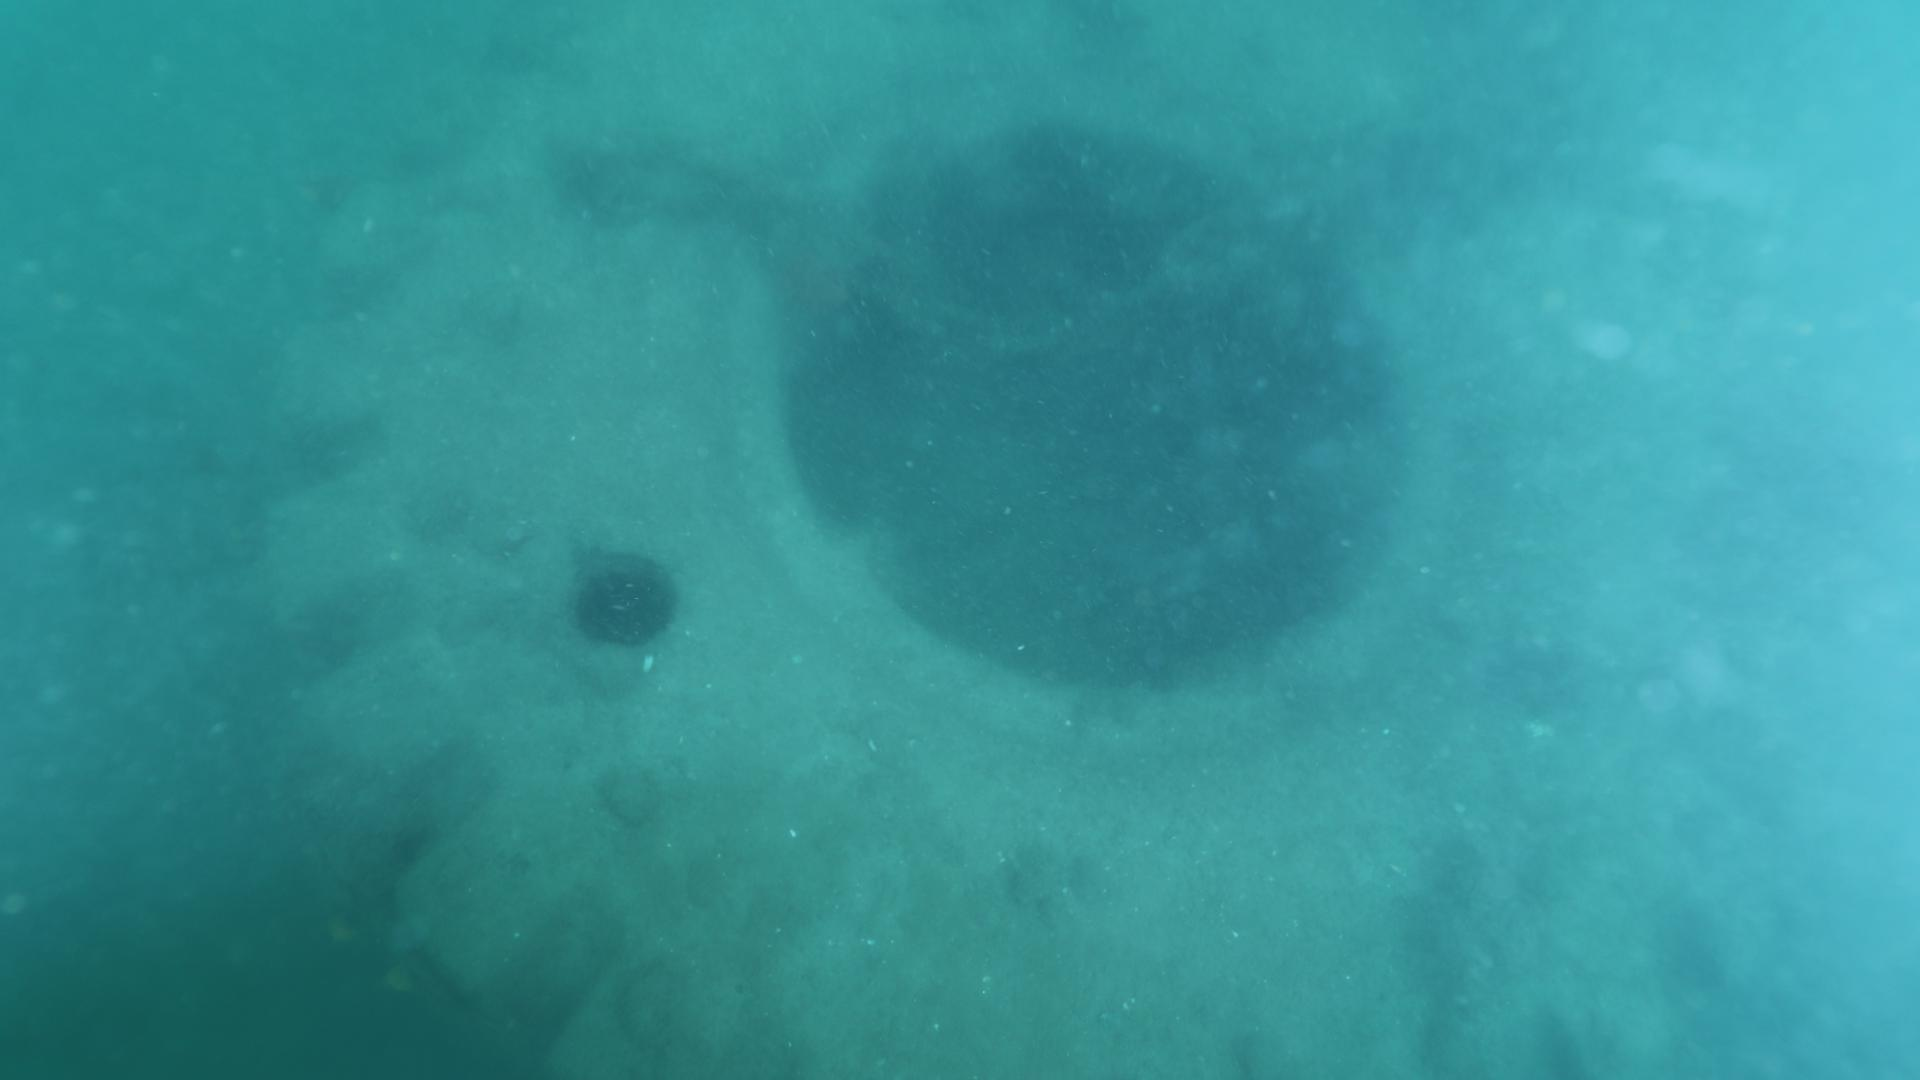tire: (262, 3, 1803, 1080)
